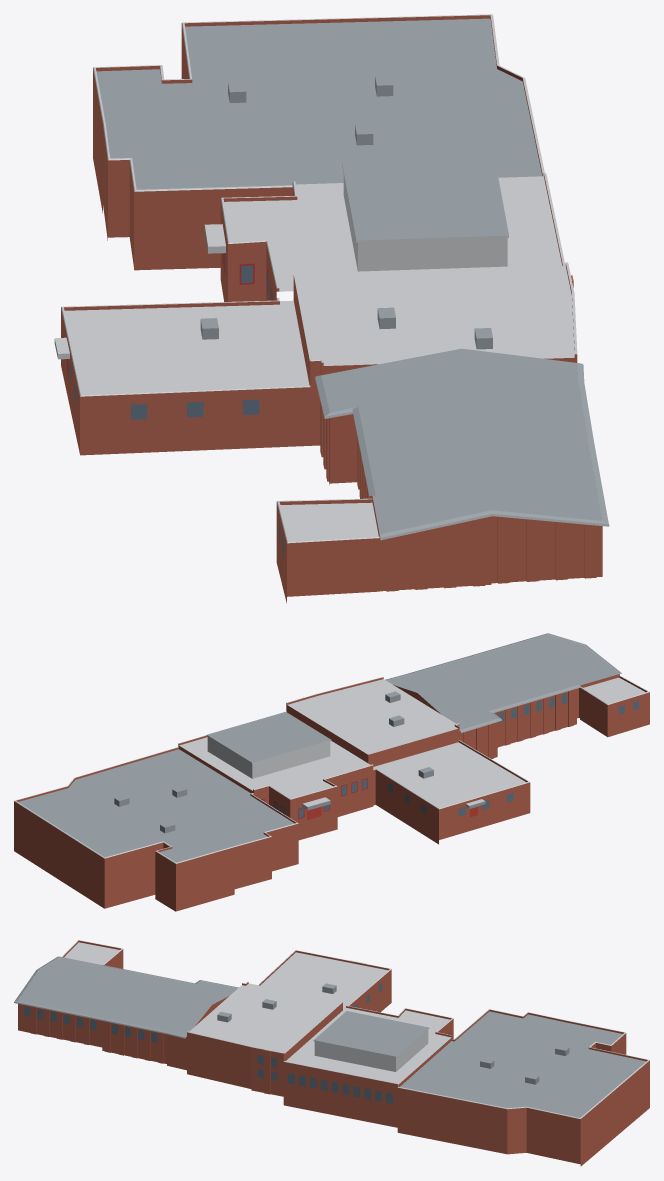
File: fillmore-charlotte.glb
3 views of the same model, one above another, from view 1: azimuth 30°, elevation 25°; view 2: azimuth 150°, elevation 25°; view 3: azimuth 270°, elevation 25° (orthographic). The views are drawn at different scales.
Parts seen in each view (by area): view 1: The Fillmore Charlotte; view 2: The Fillmore Charlotte; view 3: The Fillmore Charlotte.
Boxes of the visible parts, bbox=[...] form: The Fillmore Charlotte: bbox=[54, 14, 609, 603]; The Fillmore Charlotte: bbox=[14, 633, 649, 911]; The Fillmore Charlotte: bbox=[14, 940, 649, 1166].
Bounding box in the file's own units: 109 × 19.3 × 169.
